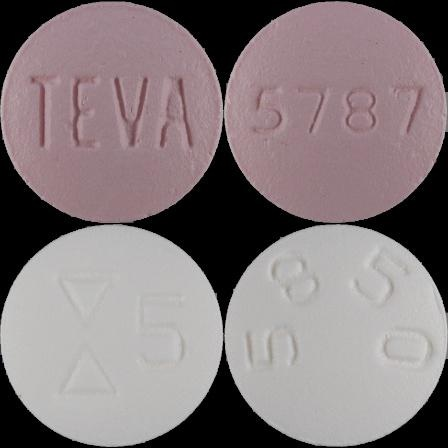0093-5787: (0, 0, 224, 224)
